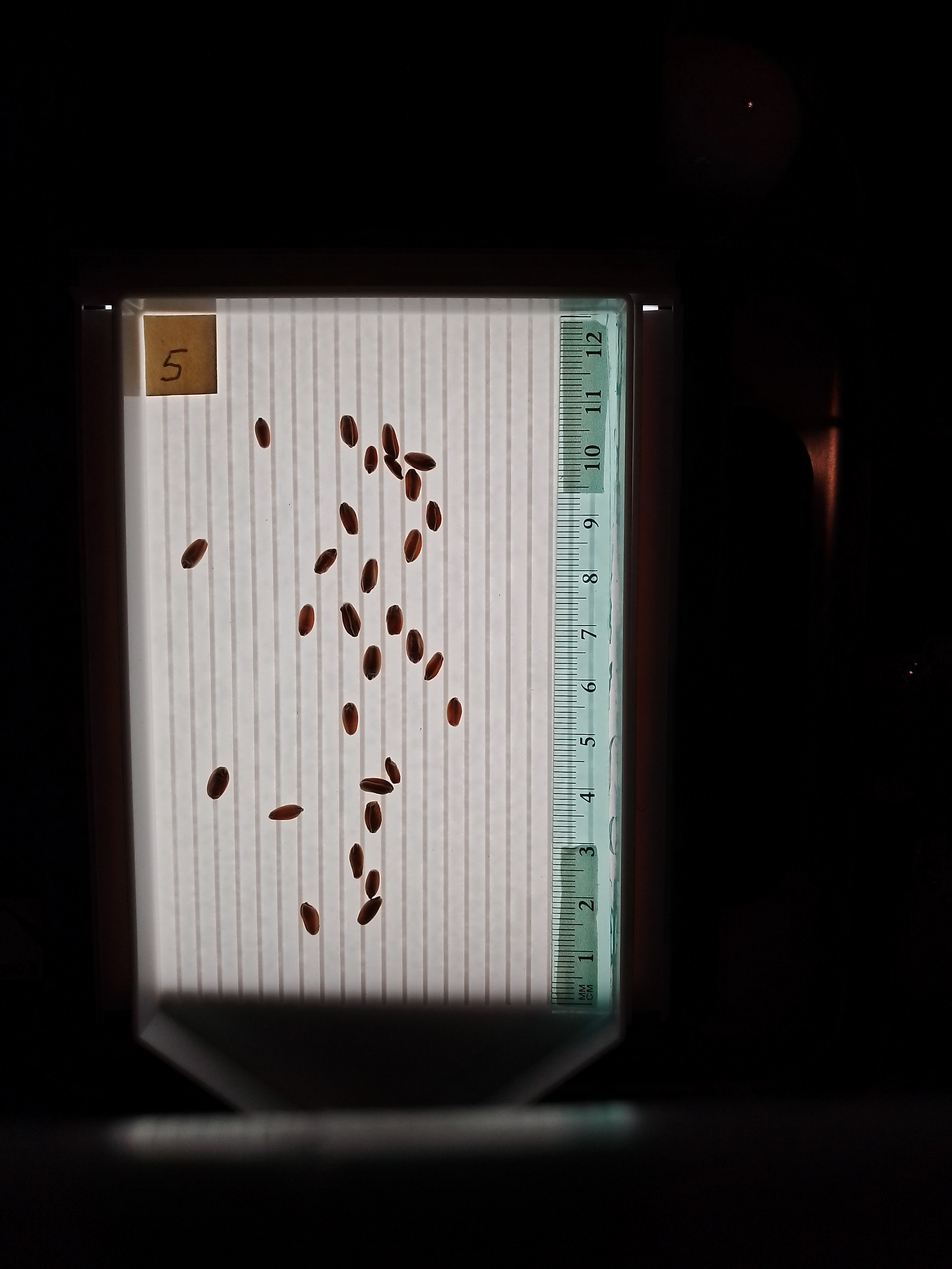seed mask: (181, 539, 208, 569), (207, 766, 230, 799), (358, 897, 381, 925), (300, 903, 320, 935), (360, 776, 393, 795), (361, 559, 379, 593), (405, 452, 435, 472), (342, 603, 360, 636), (406, 630, 424, 663), (363, 646, 381, 679), (382, 425, 399, 459), (314, 549, 337, 574), (269, 804, 302, 821), (340, 416, 358, 447), (404, 531, 422, 562), (364, 802, 382, 832), (405, 470, 422, 501), (340, 504, 357, 535), (342, 703, 358, 734), (349, 844, 364, 877), (425, 653, 443, 680), (426, 502, 442, 531), (255, 418, 270, 448), (299, 605, 314, 635), (387, 605, 402, 634), (447, 698, 462, 726), (365, 870, 380, 898), (385, 758, 401, 784), (364, 446, 379, 473), (387, 458, 402, 478)
